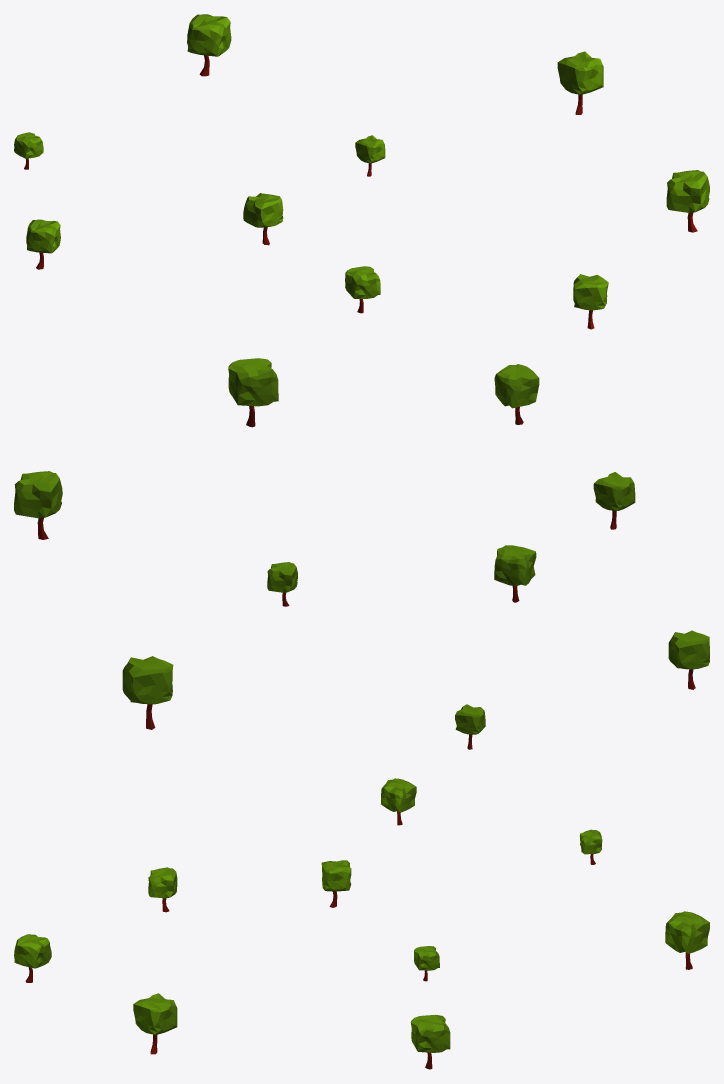
Rendered from Trees.FBX.
3 renders of one model, top to bottom at view 1: azimuth 30°, elevation 25°; view 2: azimuth 150°, elevation 25°; view 3: azimuth 270°, elevation 25°, orthographic. The views are drawn at different scales.
Visible parts, largest first — view 1: Arbol06 (×2), Arbol01, Arbol04, Arbol07, Arbol03, Arbol08, Arbol05, Arbol02; view 2: Arbol06 (×2), Arbol01, Arbol07, Arbol04, Arbol03, Arbol08, Arbol05, Arbol02; view 3: Arbol06 (×2), Arbol01, Arbol07, Arbol03, Arbol04, Arbol08, Arbol05, Arbol02.
Part boxes in pixels (box(x1,y1,x2,y2)): Arbol06 (×2): box(557, 51, 709, 232); Arbol01: box(187, 14, 231, 76); Arbol04: box(243, 193, 283, 245); Arbol07: box(573, 274, 608, 329); Arbol03: box(26, 219, 60, 269); Arbol08: box(345, 266, 380, 313); Arbol05: box(355, 135, 385, 176); Arbol02: box(14, 132, 43, 169); Arbol06 (×2): box(14, 358, 278, 539); Arbol01: box(122, 656, 173, 729); Arbol07: box(494, 364, 539, 424); Arbol04: box(494, 545, 536, 602); Arbol03: box(668, 630, 709, 689); Arbol08: box(593, 472, 635, 529); Arbol05: box(267, 562, 297, 606); Arbol02: box(455, 704, 485, 749); Arbol06 (×2): box(133, 993, 450, 1069); Arbol01: box(665, 911, 709, 969); Arbol07: box(14, 934, 51, 982); Arbol03: box(381, 778, 416, 825); Arbol04: box(321, 860, 351, 907); Arbol08: box(148, 867, 177, 912); Arbol05: box(414, 946, 439, 981); Arbol02: box(579, 829, 602, 864).
Size of the model in its own units: 103 by 10.55 by 113.
